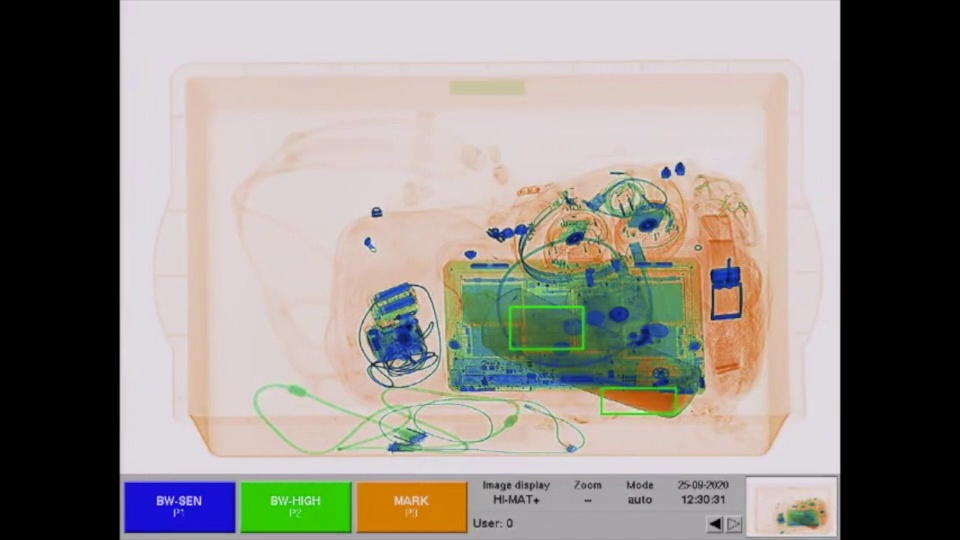tray_img: (147, 50, 826, 461)
